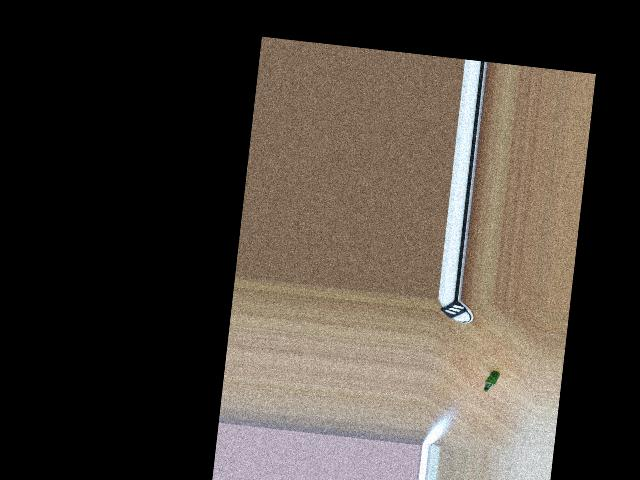beer: (483, 370, 499, 392)
